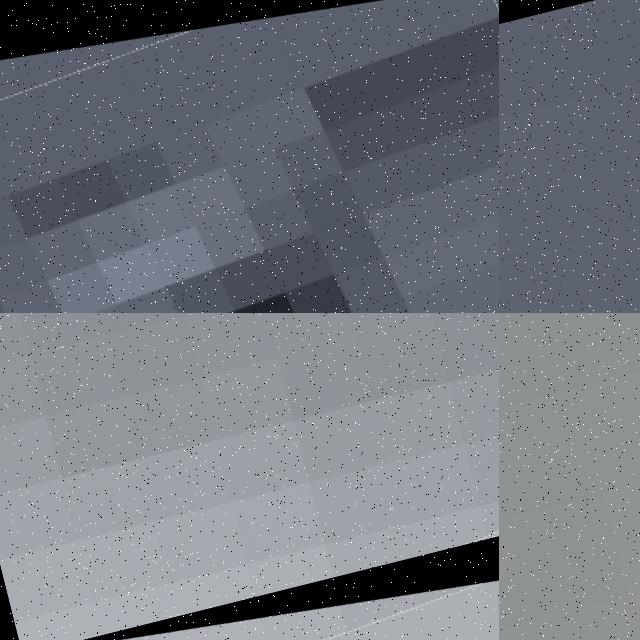0: (0, 0, 499, 313)
drone: (22, 500, 499, 640)
